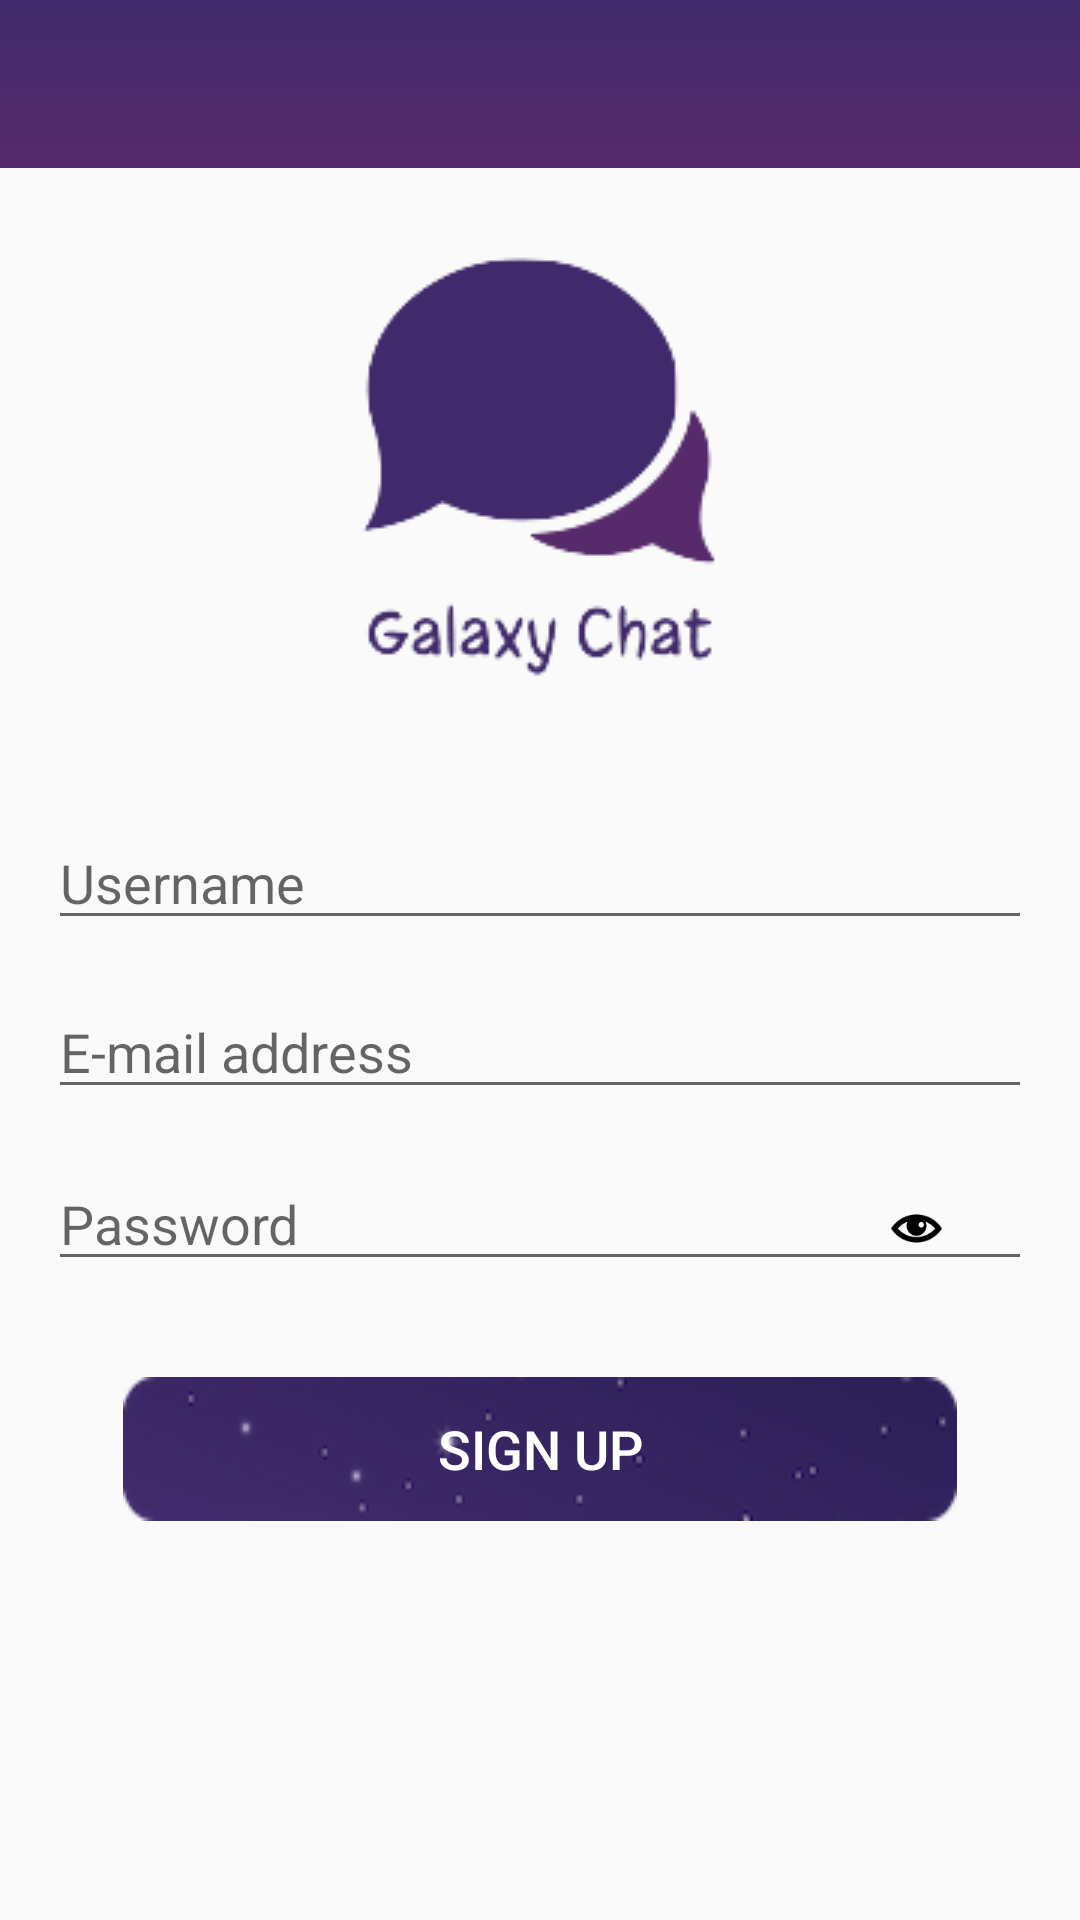

Screen size 1080w x 1920h. Icon name, then its box in pixels as (x1, y1, x2, y2):
show: (891, 1214, 942, 1243)
